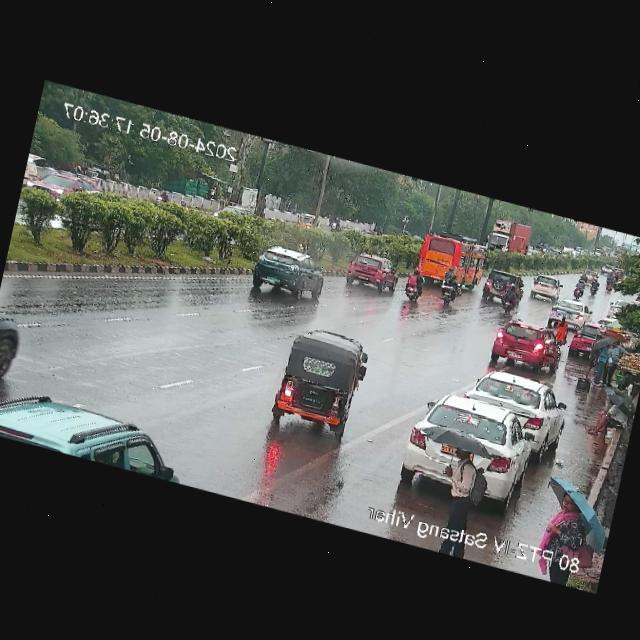bus: (406, 228, 490, 295)
car: (0, 381, 222, 492), (399, 385, 555, 513), (270, 321, 374, 435), (466, 365, 568, 449), (492, 310, 564, 373), (250, 244, 324, 303), (26, 160, 100, 207), (340, 252, 398, 297), (477, 268, 521, 308), (527, 272, 564, 303), (212, 201, 250, 229)
motorcycle: (399, 267, 430, 305), (432, 270, 464, 302), (574, 264, 600, 288), (586, 277, 600, 298)
person: (427, 435, 488, 537), (538, 485, 598, 563), (584, 383, 635, 443), (592, 335, 626, 384), (550, 316, 568, 343)
truck: (480, 208, 534, 261)
